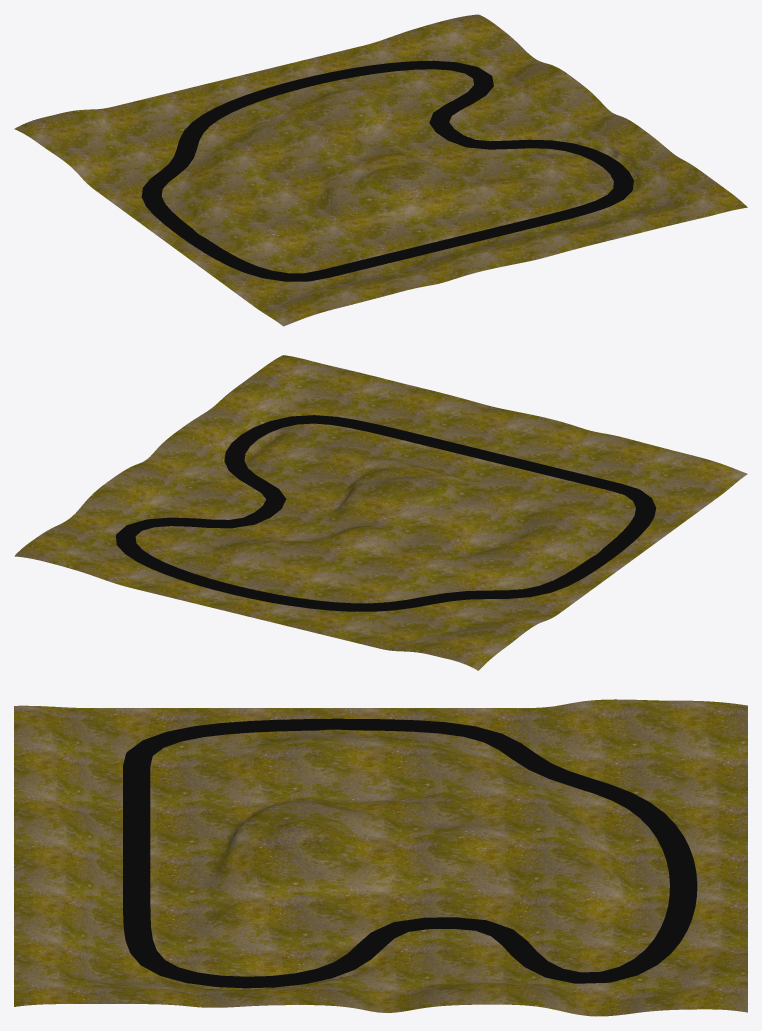
File: track.obj
The picture shows the model from 3 angles, top to bottom: view 1: azimuth 30°, elevation 25°; view 2: azimuth 150°, elevation 25°; view 3: azimuth 270°, elevation 25°; orthographic projection. The views are drawn at different scales.
Parts seen in each view (by area): view 1: Plane.001, Plane; view 2: Plane.001, Plane; view 3: Plane.001, Plane.
Boxes of the visible parts, x1,y1,x2,y2 form: Plane.001: [14, 14, 747, 326]; Plane: [141, 60, 633, 281]; Plane.001: [14, 355, 747, 670]; Plane: [116, 415, 655, 611]; Plane.001: [14, 699, 747, 1016]; Plane: [123, 718, 697, 988].
Bounding box in the file's own units: 9.49 × 0.4252 × 9.54.
